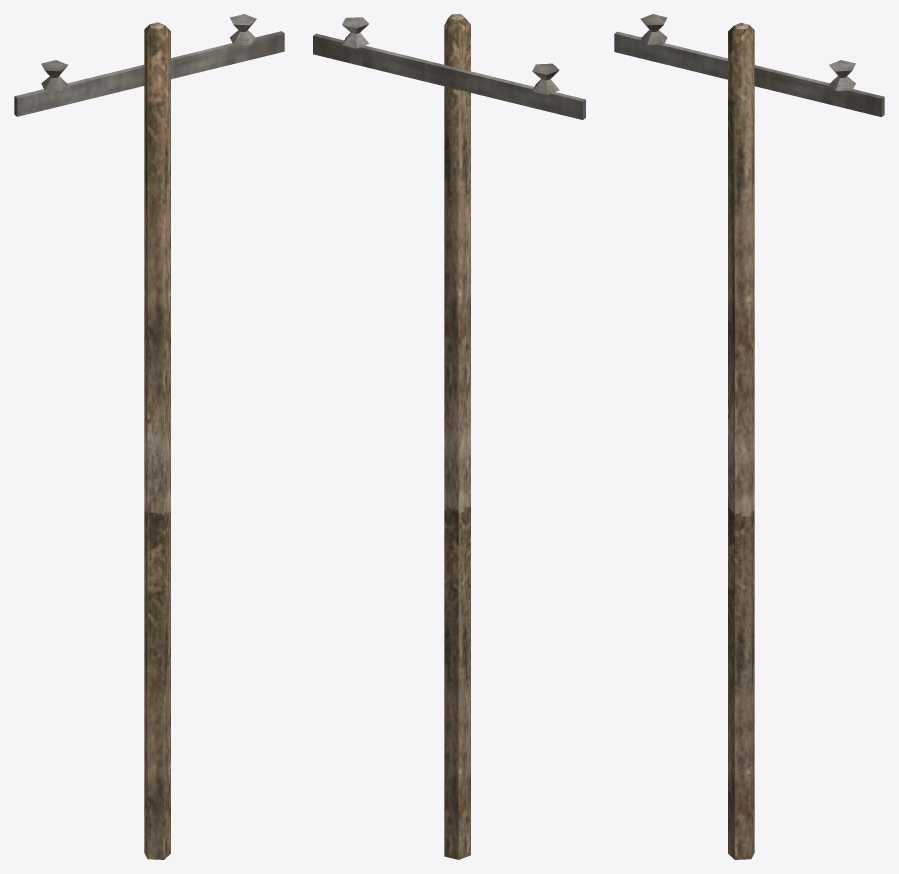
File: Poste.fbx
3 renders of one model, left to right at view 1: azimuth 30°, elevation 25°; view 2: azimuth 150°, elevation 25°; view 3: azimuth 330°, elevation 25°, orthographic.
Visible parts, largest first — view 1: Poste; view 2: Poste; view 3: Poste.
Part boxes in pixels (bbox=[...]): Poste: bbox=[14, 14, 284, 859]; Poste: bbox=[313, 14, 585, 859]; Poste: bbox=[614, 14, 884, 859].
Size of the model in its own units: 2.27 by 0.3011 by 6.73.
1 material, 1 textured.
